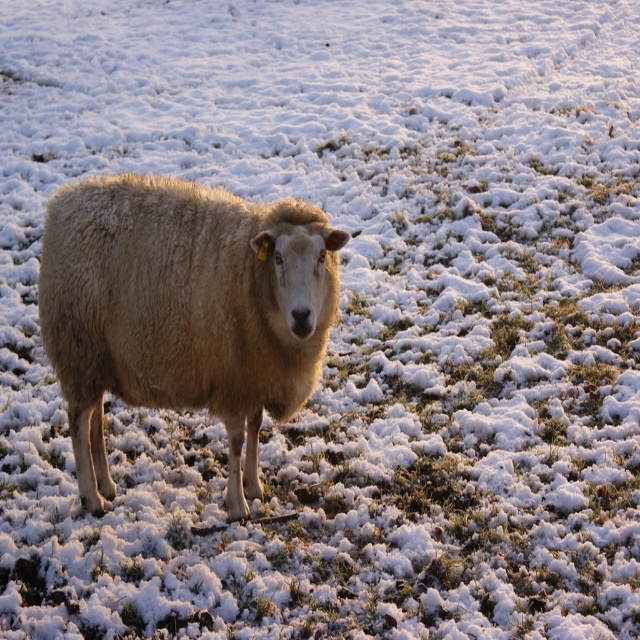Sheep: (38, 164, 352, 533)
